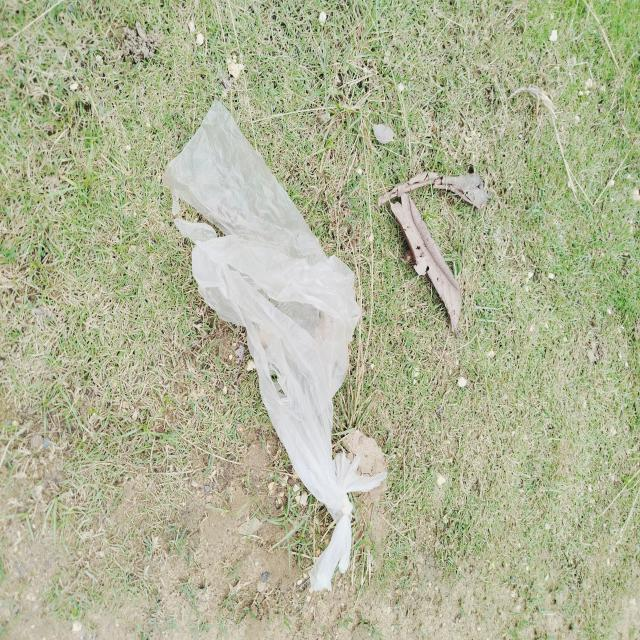residual: (160, 92, 392, 601)
